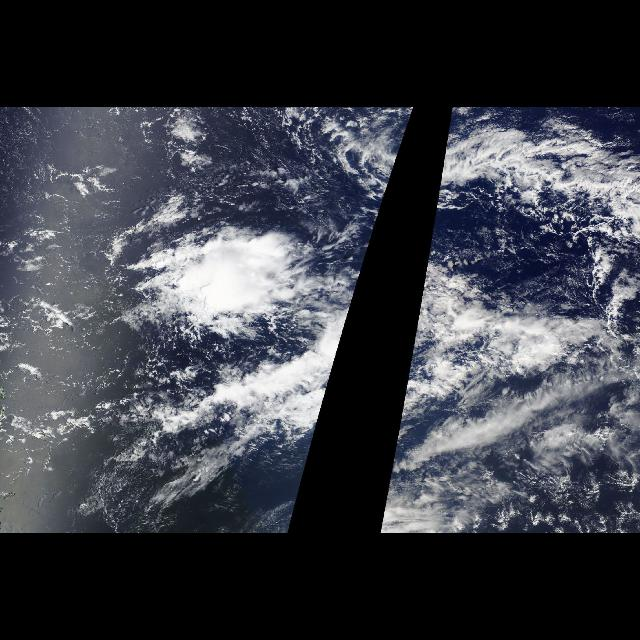Fish: (128, 110, 412, 470), (390, 110, 640, 470)
Gravel: (3, 135, 138, 493)
Sugar: (0, 108, 154, 245)
